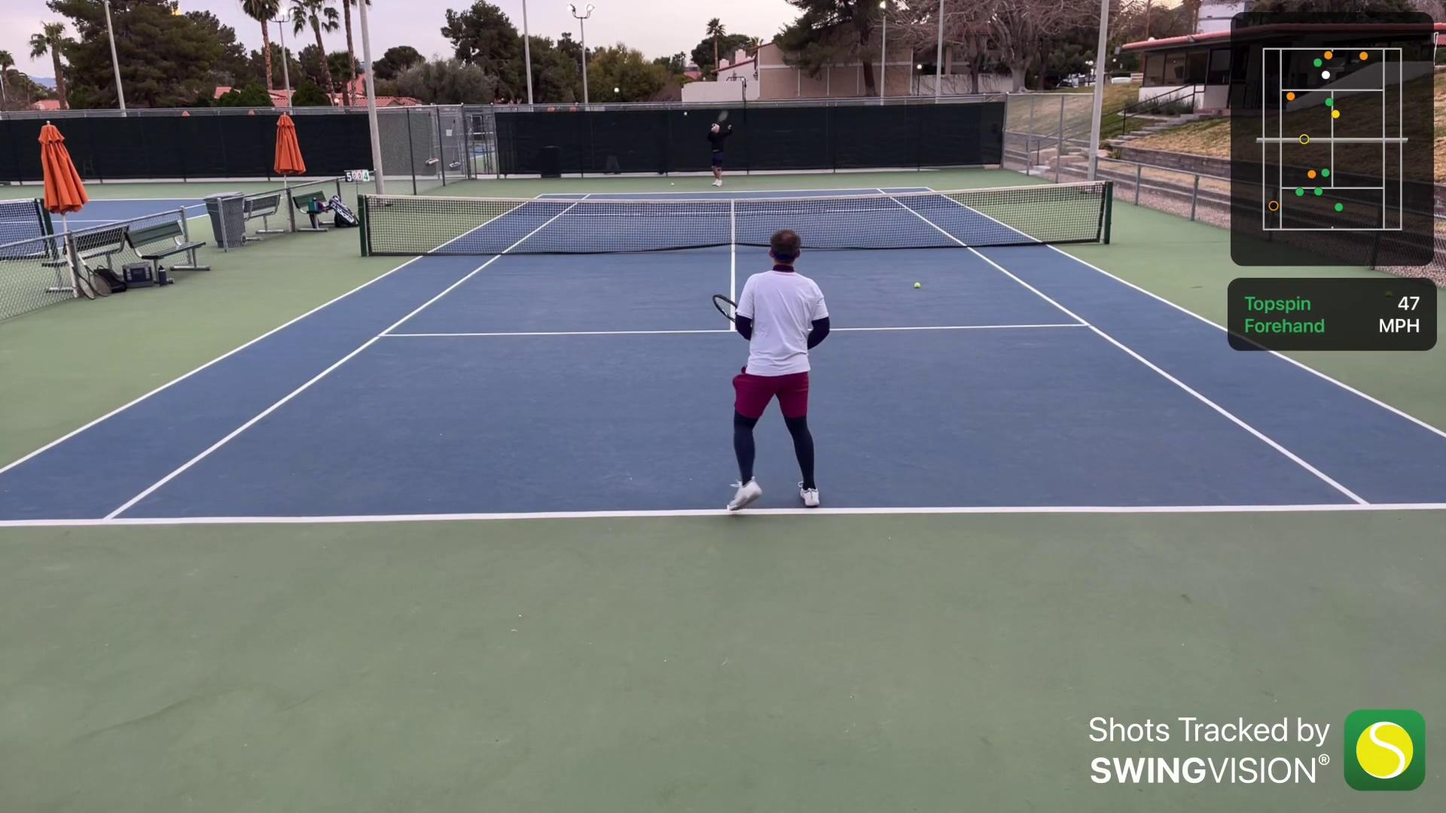ball: (682, 110, 689, 117)
